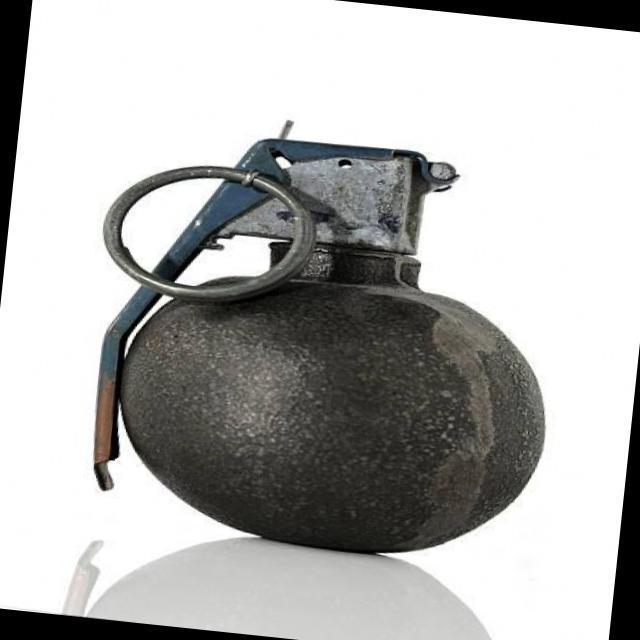grenade: (51, 111, 568, 573)
